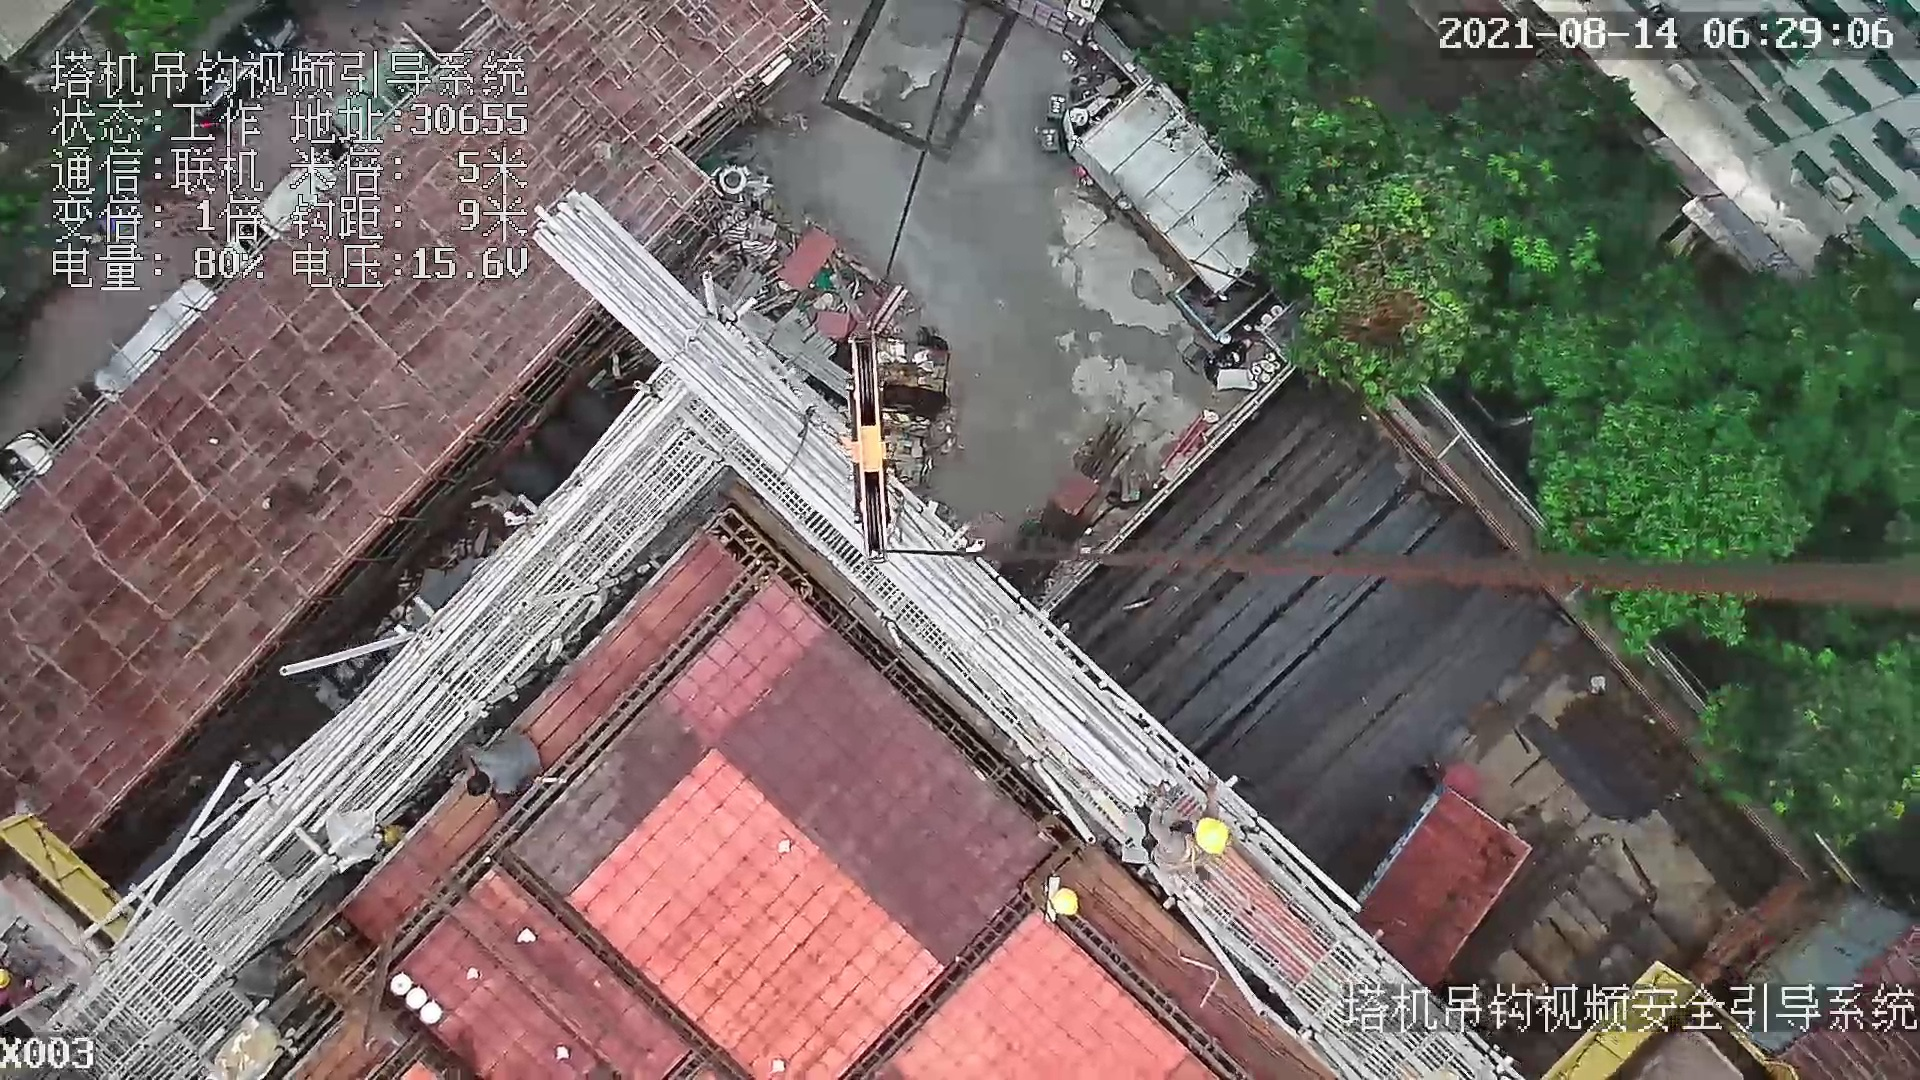helmet: (1194, 812, 1229, 860), (1051, 890, 1086, 919)
hook: (844, 333, 891, 564)
person: (1135, 776, 1233, 877)
rebar: (1094, 391, 1501, 797)
